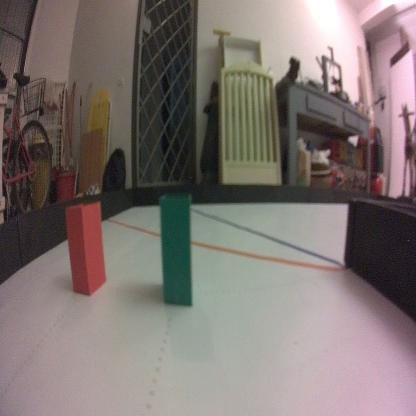green: (157, 189, 196, 314)
red: (63, 198, 108, 298)
